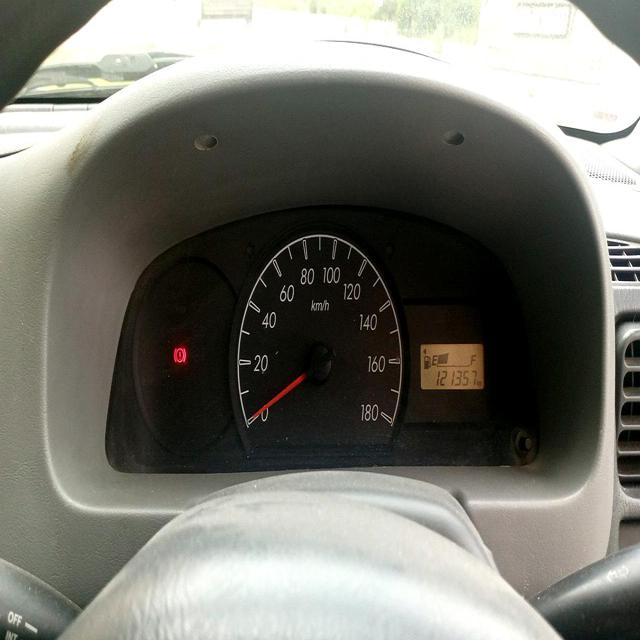odometer: (432, 367, 481, 390)
